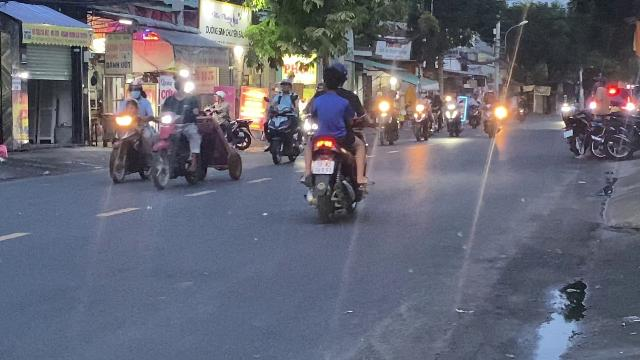helmet: (128, 81, 144, 99)
licenseplate: (312, 160, 333, 174)
motorcyclist: (298, 61, 372, 223), (104, 79, 160, 185)
nohelmet: (321, 67, 342, 97), (174, 70, 192, 93)
